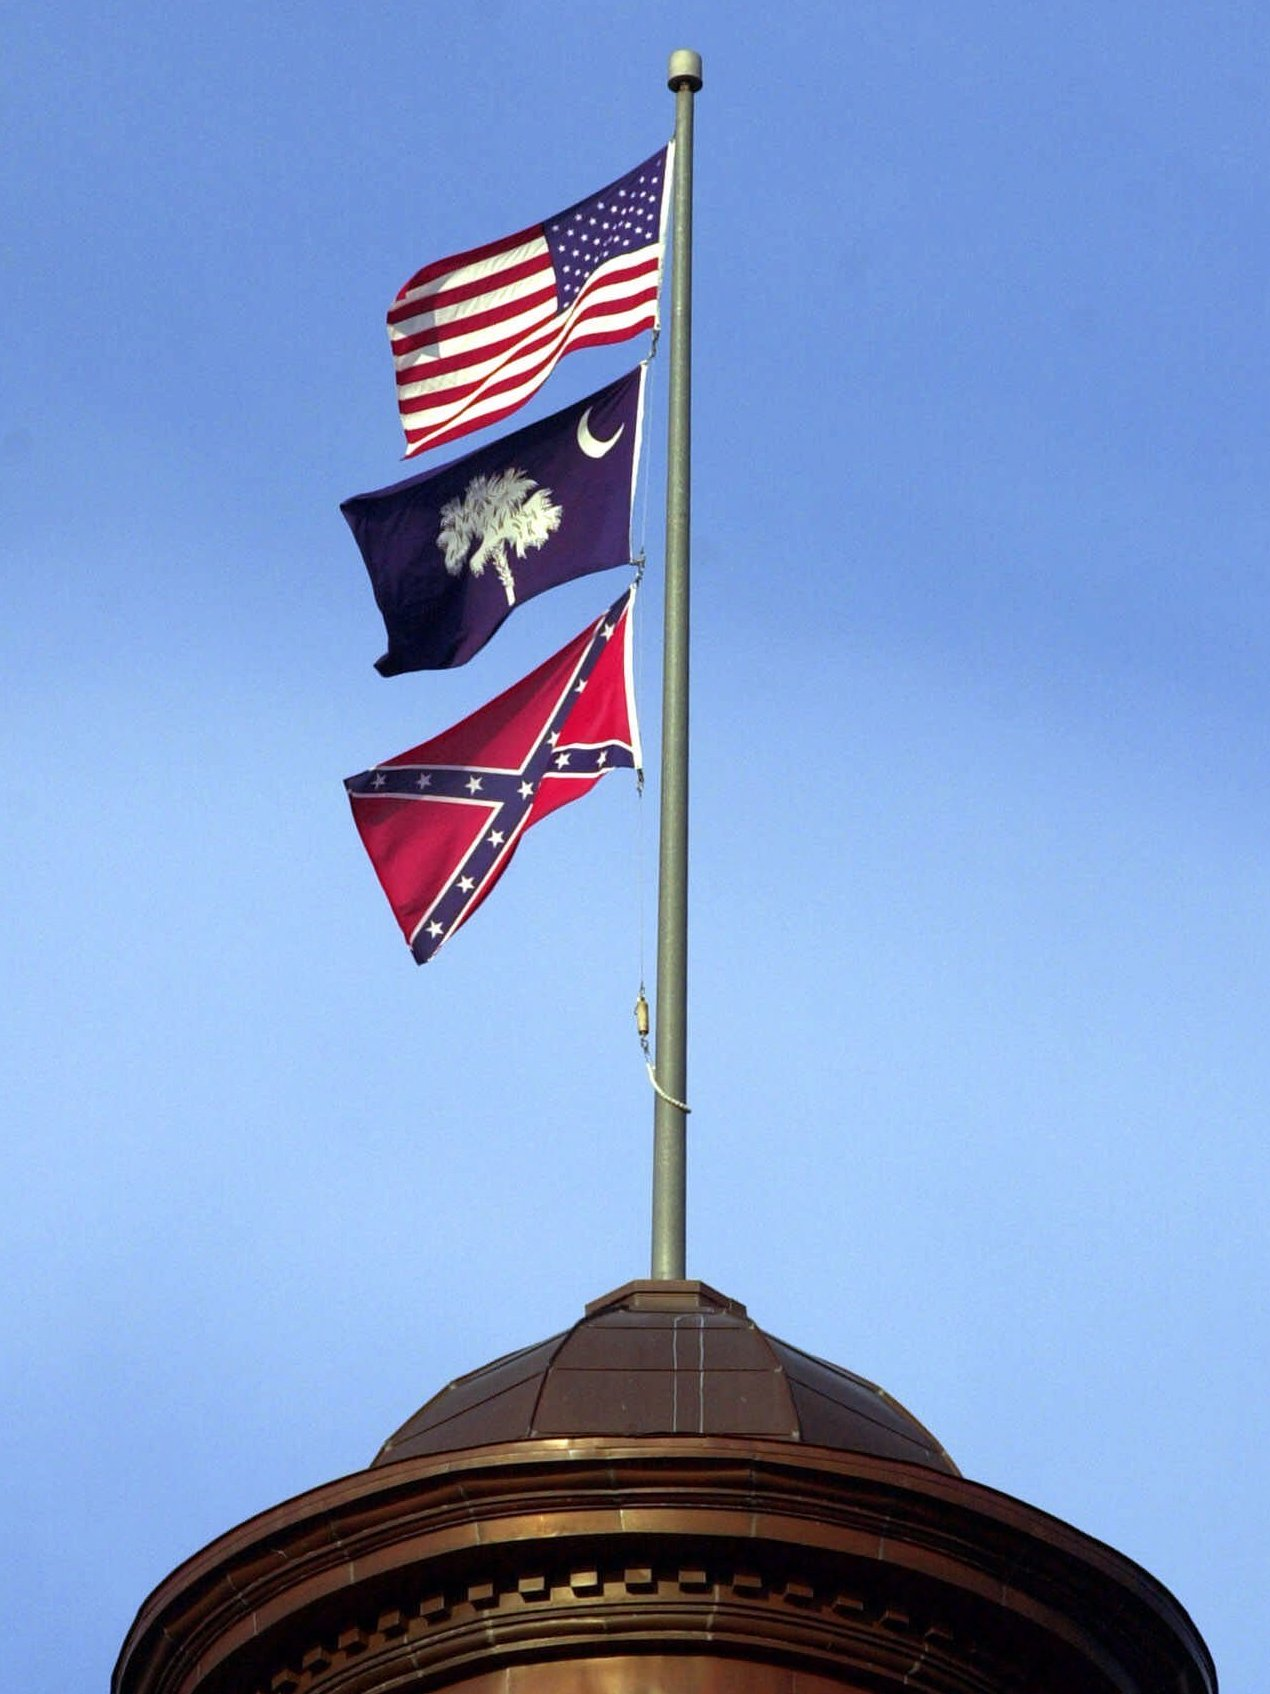Flag: (323, 566, 664, 975), (328, 341, 671, 694), (384, 120, 692, 468)
